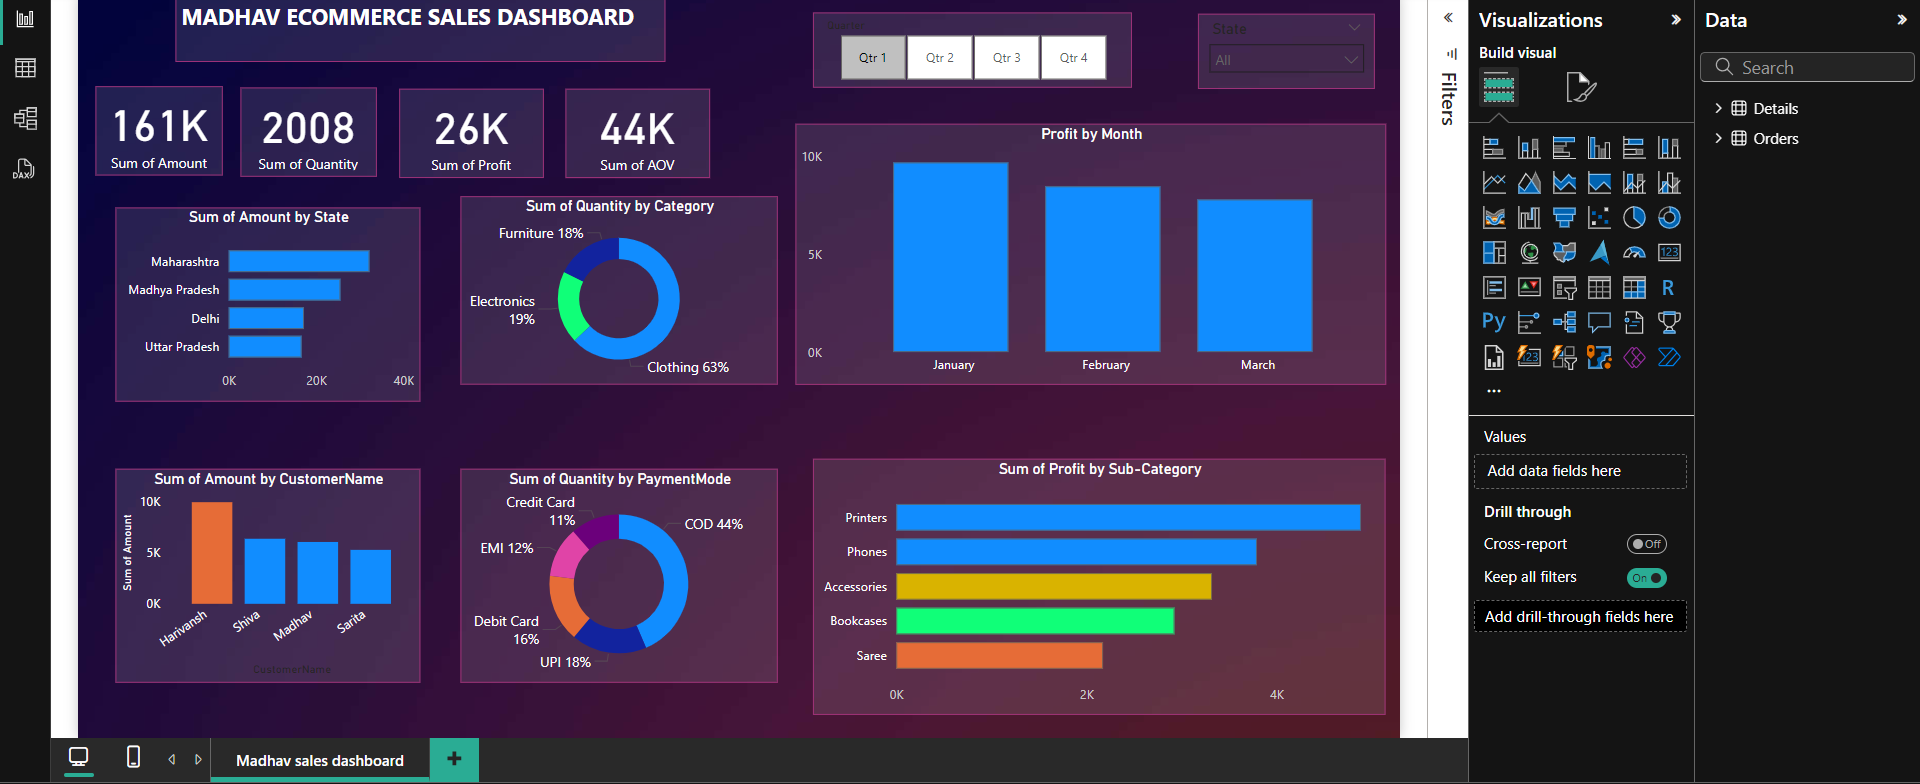

Layout of this report page (visuals, bound fields, positions):
{"tool":"powerbi","page":{"name":"Madhav sales dashboard","canvas":[1280,720],"ordinal":0},"visuals":[{"type":"textbox","box":[94.7,0,474.8,64.5],"z":0},{"type":"columnChart","title":"Profit by Month","fields":{"Y":["Sum(Details.Profit)"],"Category":["Orders.Order Date.Variation.Date Hierarchy.Month"]},"box":[694.3,124.9,572.2,252.5],"z":1000},{"type":"barChart","fields":{"Category":["Details.Sub-Category"],"Y":["Sum(Details.Profit)"]},"box":[711.8,449.1,554.4,248.2],"z":2000},{"type":"donutChart","fields":{"Category":["Details.Category"],"Y":["Sum(Details.Quantity)"]},"box":[370.5,194.9,307.4,182.5],"z":3000},{"type":"donutChart","fields":{"Y":["Sum(Details.Quantity)"],"Category":["Details.PaymentMode"]},"box":[370.4,458.8,307.5,207],"z":4000},{"type":"card","fields":{"Values":["Sum(Details.Amount)"]},"box":[16.5,87.8,123.5,86.4],"z":5000},{"type":"card","fields":{"Values":["Sum(Details.Quantity)"]},"box":[157.8,89.2,131.7,86.4],"z":6000},{"type":"card","fields":{"Values":["Sum(Details.Profit)"]},"box":[311.5,90.6,140,86.4],"z":7000},{"type":"card","fields":{"Values":["Sum(Details.AOV)"]},"box":[472,90.6,140,86.4],"z":8000},{"type":"barChart","fields":{"Category":["Orders.State"],"Y":["Sum(Details.Amount)"]},"box":[36.3,205.8,295.4,187.6],"z":9000},{"type":"columnChart","fields":{"Category":["Orders.CustomerName"],"Y":["Sum(Details.Amount)"]},"box":[36.3,458.8,295.4,207],"z":10000},{"type":"slicer","fields":{"Values":["Orders.Order Date.Variation.Date Hierarchy.Quarter"]},"box":[712.2,16.5,308.7,72.7],"z":11000},{"type":"slicer","fields":{"Values":["Orders.State"]},"box":[1084.1,17.8,171.5,72.7],"z":12000}]}

Visuals, with their boxes on the page's 1280x720 design canvas (x1, y1, x2, y2). These are canvas units, not pixel positions in the 1920x784 screenshot, which may show the page scaled, cropped or inside an application window:
textbox: Rect(95, 0, 570, 64)
"Profit by Month" columnChart: Rect(694, 125, 1266, 377)
barChart - Details.Sub-Category x Sum(Details.Profit): Rect(712, 449, 1266, 697)
donutChart - Details.Category x Sum(Details.Quantity): Rect(370, 195, 678, 377)
donutChart - Sum(Details.Quantity) x Details.PaymentMode: Rect(370, 459, 678, 666)
card - Sum(Details.Amount): Rect(16, 88, 140, 174)
card - Sum(Details.Quantity): Rect(158, 89, 290, 176)
card - Sum(Details.Profit): Rect(312, 91, 452, 177)
card - Sum(Details.AOV): Rect(472, 91, 612, 177)
barChart - Orders.State x Sum(Details.Amount): Rect(36, 206, 332, 393)
columnChart - Orders.CustomerName x Sum(Details.Amount): Rect(36, 459, 332, 666)
slicer - Orders.Order Date.Variation.Date Hierarchy.Quarter: Rect(712, 16, 1021, 89)
slicer - Orders.State: Rect(1084, 18, 1256, 90)
